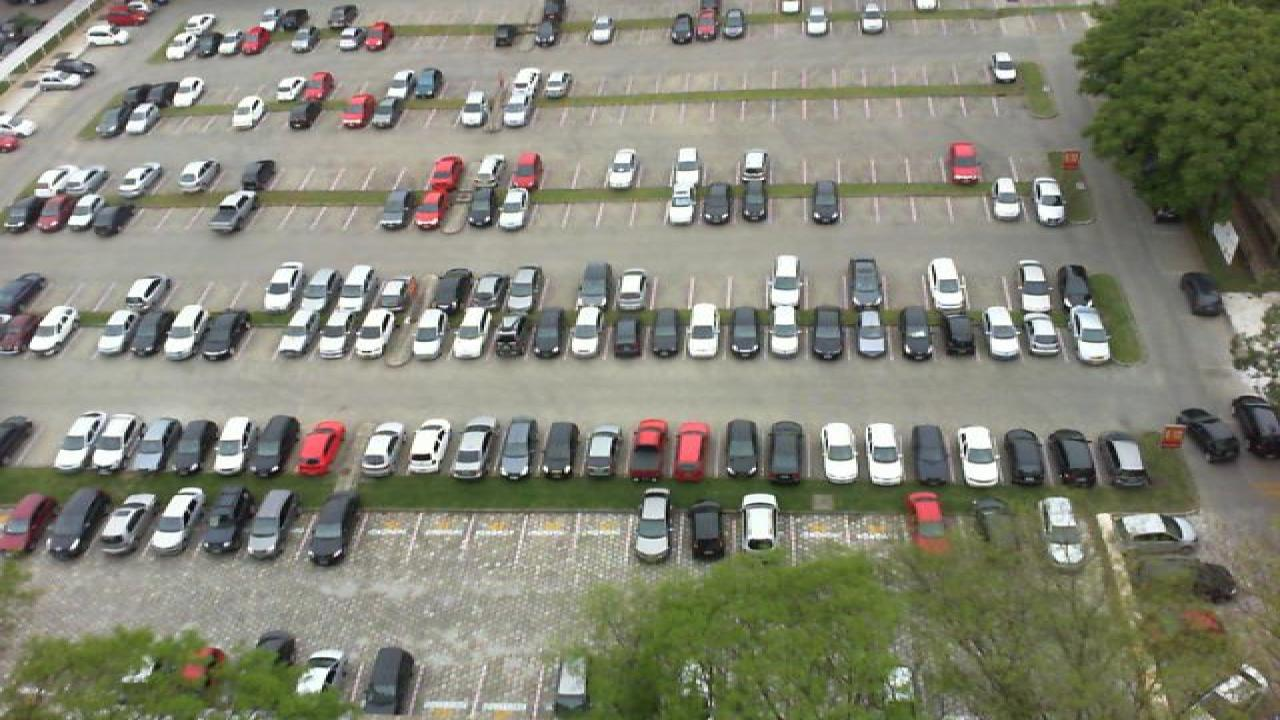Car: (358, 644, 418, 720), (44, 486, 106, 559), (308, 487, 360, 566), (198, 486, 256, 556), (148, 485, 204, 556), (248, 487, 300, 559), (1036, 496, 1088, 568), (96, 494, 154, 557), (0, 492, 56, 554), (1180, 408, 1240, 463), (1230, 394, 1280, 459), (294, 648, 344, 713), (402, 417, 456, 477), (904, 490, 954, 554), (1096, 511, 1196, 543), (738, 492, 782, 564), (250, 414, 300, 477), (632, 485, 674, 560), (1098, 429, 1152, 486), (50, 411, 102, 470), (818, 420, 866, 483), (862, 421, 908, 486), (908, 423, 954, 488), (548, 656, 596, 718), (1048, 428, 1096, 488), (358, 419, 410, 474), (494, 418, 540, 480), (956, 426, 1002, 488), (1002, 428, 1050, 487), (296, 420, 348, 474), (450, 420, 498, 478), (24, 305, 78, 355), (212, 415, 256, 476), (628, 420, 672, 481), (130, 416, 176, 474), (764, 419, 806, 482), (684, 499, 726, 562), (92, 414, 138, 471), (96, 305, 144, 359), (172, 417, 216, 475), (202, 308, 250, 361), (672, 422, 714, 482), (722, 419, 762, 480), (346, 306, 390, 360), (980, 305, 1024, 359), (302, 306, 346, 359), (448, 305, 490, 360), (938, 305, 980, 360), (208, 188, 258, 234), (540, 421, 580, 478), (928, 256, 970, 310), (128, 307, 172, 358), (582, 425, 624, 478), (164, 307, 206, 360), (1068, 308, 1110, 361), (1180, 270, 1228, 316), (408, 304, 448, 359), (894, 305, 932, 360), (808, 306, 846, 360), (852, 306, 890, 360), (686, 302, 722, 358), (766, 304, 802, 359), (1012, 260, 1052, 309), (768, 253, 804, 307), (726, 305, 762, 358), (574, 261, 612, 311), (1030, 176, 1068, 226), (1022, 314, 1064, 359), (264, 262, 302, 311), (846, 258, 884, 307), (396, 266, 436, 312), (436, 266, 476, 312), (1058, 261, 1096, 309), (648, 305, 682, 358), (492, 307, 526, 359), (530, 307, 564, 359), (570, 306, 604, 358), (610, 306, 644, 358), (506, 264, 544, 310), (494, 184, 532, 230), (62, 191, 102, 233), (410, 188, 448, 232), (304, 264, 340, 310), (176, 158, 222, 194), (114, 161, 160, 197), (946, 140, 982, 185), (30, 192, 70, 232), (736, 178, 770, 225), (606, 146, 642, 190), (342, 264, 376, 310), (664, 179, 698, 225), (990, 176, 1024, 222), (0, 192, 40, 231), (614, 269, 652, 310), (96, 194, 134, 235), (668, 146, 704, 189), (30, 163, 74, 198), (808, 179, 842, 224), (376, 189, 414, 229), (422, 156, 462, 194), (370, 89, 410, 127), (700, 180, 732, 225), (282, 93, 320, 130), (64, 164, 106, 197), (236, 158, 276, 192), (446, 185, 476, 230), (472, 153, 508, 190), (508, 152, 542, 191), (474, 274, 510, 310), (230, 94, 266, 130), (458, 89, 492, 127), (500, 88, 534, 126), (474, 184, 502, 229), (92, 103, 128, 138), (338, 93, 372, 130), (738, 148, 774, 182), (128, 100, 160, 134), (508, 66, 542, 98), (988, 51, 1018, 83), (544, 70, 574, 98)
